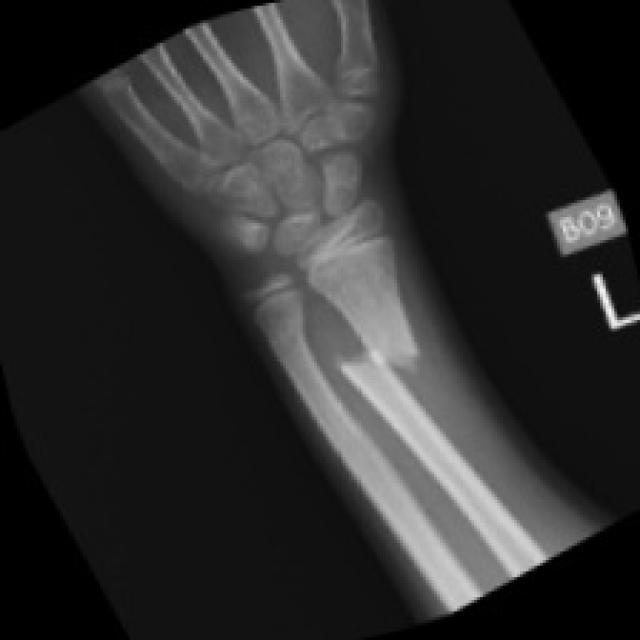fracture: (325, 295, 438, 408)
